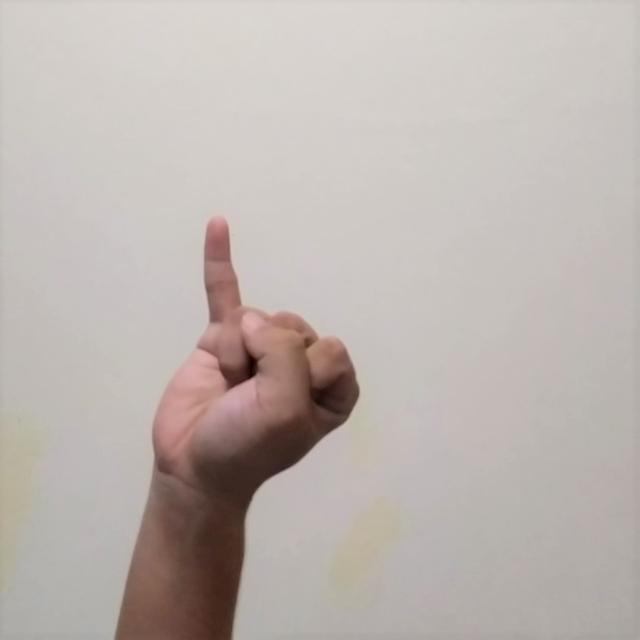I: (143, 210, 367, 498)
